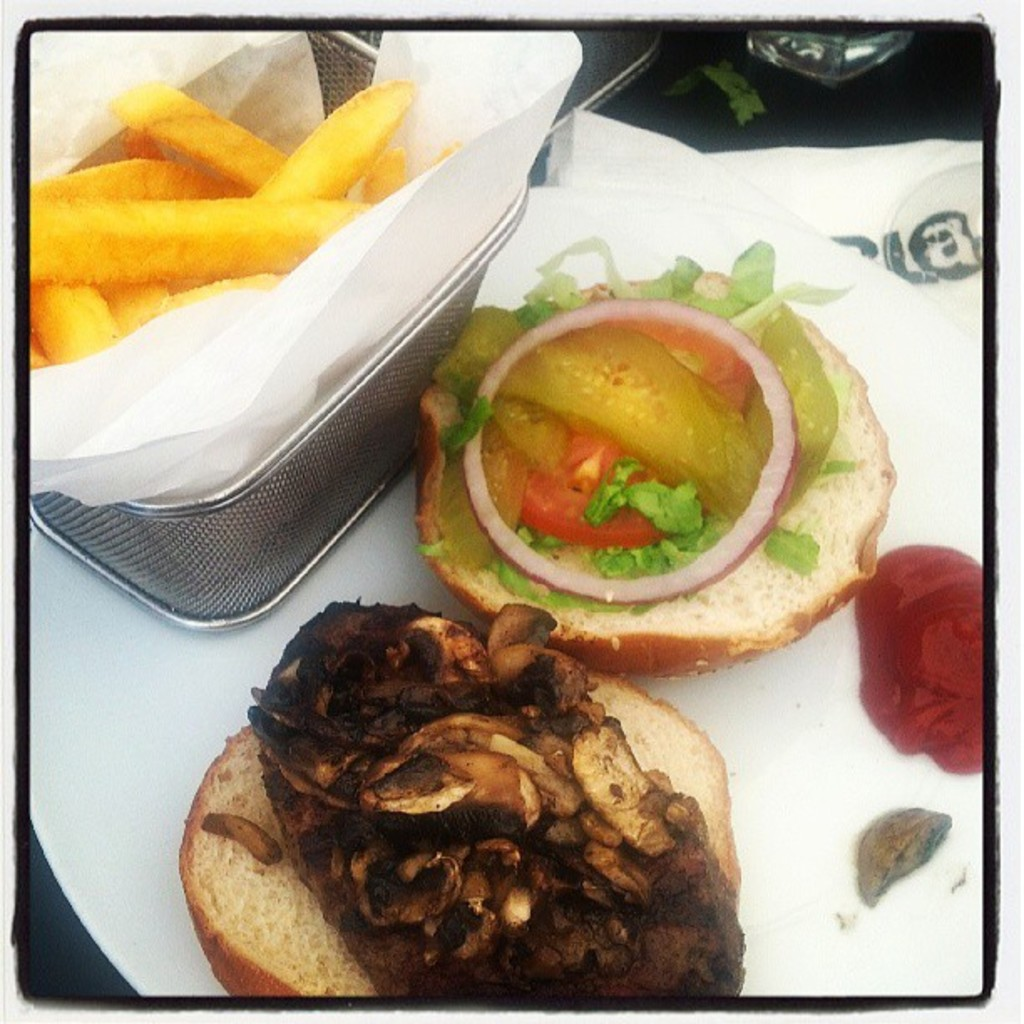Hamburger: (180, 239, 896, 997)
